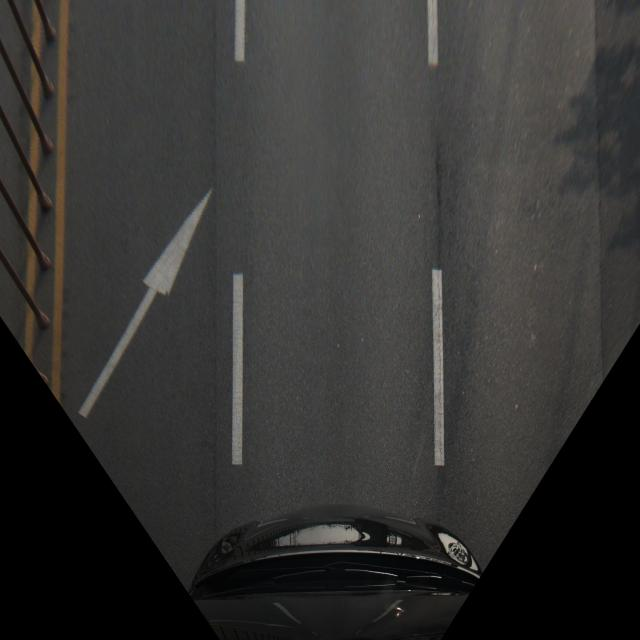chang_lane_right: (64, 159, 260, 475)
